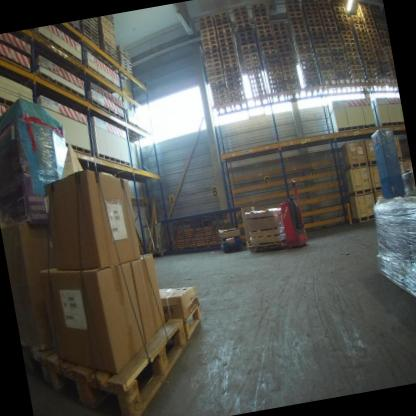pallet: (38, 307, 200, 416), (374, 249, 416, 317), (179, 286, 209, 345), (22, 336, 50, 390), (355, 3, 371, 17), (280, 63, 298, 74), (280, 58, 297, 69), (277, 49, 294, 60), (301, 70, 319, 80), (310, 36, 328, 46), (331, 3, 347, 14), (241, 46, 258, 56), (276, 45, 293, 55), (299, 61, 316, 71), (290, 26, 307, 36), (337, 75, 352, 86), (302, 75, 320, 84), (295, 47, 313, 56), (294, 43, 312, 52), (293, 39, 311, 48), (287, 17, 305, 26), (211, 87, 227, 97), (207, 69, 223, 79), (262, 51, 278, 61), (283, 73, 299, 83), (199, 25, 215, 35), (351, 75, 367, 85), (350, 71, 366, 81), (349, 66, 365, 76), (205, 60, 222, 69), (204, 56, 221, 65), (218, 39, 235, 48), (217, 34, 234, 43), (244, 61, 261, 70), (240, 42, 257, 51), (260, 43, 277, 52), (257, 30, 274, 39), (283, 77, 300, 86), (281, 69, 298, 78), (275, 41, 292, 50), (272, 28, 289, 37), (232, 8, 249, 17), (254, 18, 271, 27), (252, 9, 269, 18), (300, 66, 317, 75), (298, 56, 315, 65), (297, 52, 314, 61), (292, 35, 309, 44), (291, 31, 308, 40), (289, 22, 306, 31), (321, 77, 338, 86), (308, 28, 325, 37), (307, 23, 324, 32), (305, 16, 322, 25), (286, 9, 303, 18), (333, 62, 348, 72), (331, 53, 346, 63), (347, 58, 362, 68), (345, 49, 360, 59), (338, 23, 353, 33), (336, 19, 351, 29), (335, 15, 350, 25), (213, 97, 229, 106), (212, 92, 228, 101), (210, 83, 226, 92), (209, 79, 225, 88), (208, 74, 224, 83), (203, 51, 219, 60), (202, 42, 218, 51), (200, 34, 216, 43), (227, 84, 243, 93), (224, 65, 240, 74), (220, 47, 236, 56), (239, 33, 255, 42), (264, 57, 280, 66), (261, 47, 277, 56), (285, 82, 301, 91), (279, 54, 295, 63), (274, 37, 290, 46), (273, 32, 289, 41), (200, 30, 216, 39), (198, 21, 214, 30), (216, 25, 232, 34), (214, 18, 230, 27), (237, 25, 253, 34), (236, 21, 252, 30), (251, 5, 267, 14), (320, 72, 336, 81), (319, 68, 335, 77), (318, 64, 334, 73), (317, 59, 333, 68), (316, 54, 332, 63), (312, 41, 328, 50), (334, 68, 350, 77), (325, 32, 341, 41), (343, 40, 357, 50), (339, 28, 353, 38), (334, 11, 348, 21), (318, 3, 332, 13), (358, 45, 372, 55), (352, 21, 366, 31), (349, 13, 363, 23), (206, 66, 223, 74), (228, 89, 245, 97), (219, 43, 236, 51), (242, 51, 259, 59), (239, 38, 256, 46), (258, 35, 275, 43), (256, 27, 273, 35), (216, 30, 233, 38), (255, 23, 272, 31), (253, 14, 270, 22), (287, 14, 304, 22), (309, 33, 326, 41), (303, 9, 320, 17), (302, 5, 319, 13), (203, 47, 218, 56), (198, 17, 213, 26), (197, 12, 212, 21), (336, 72, 351, 81), (332, 58, 347, 67), (329, 45, 344, 54), (327, 37, 342, 46), (348, 63, 363, 72), (346, 54, 361, 63), (341, 36, 356, 45), (340, 32, 355, 41), (316, 0, 331, 9), (330, 0, 345, 9), (365, 72, 380, 81), (357, 8, 372, 17), (355, 33, 368, 43), (365, 22, 378, 32), (229, 94, 245, 102), (227, 79, 243, 87), (226, 75, 242, 83), (225, 71, 241, 79), (223, 61, 239, 69), (222, 57, 238, 65), (221, 53, 237, 61), (265, 62, 281, 70), (259, 39, 275, 47), (271, 24, 287, 32), (215, 22, 231, 30), (213, 10, 229, 18), (235, 17, 251, 25), (233, 13, 249, 21), (231, 5, 247, 13), (270, 20, 286, 28), (314, 50, 330, 58), (313, 46, 329, 54), (306, 20, 322, 28), (304, 12, 320, 20), (285, 2, 301, 10), (324, 24, 338, 33), (344, 44, 358, 53), (333, 8, 347, 17), (363, 63, 377, 72), (362, 59, 376, 68), (361, 54, 375, 63), (359, 50, 373, 59), (357, 41, 371, 50), (356, 37, 370, 46), (354, 29, 368, 38), (350, 17, 364, 26), (202, 39, 217, 47), (244, 56, 259, 64), (238, 29, 253, 37), (214, 15, 229, 23), (250, 1, 265, 9), (330, 50, 345, 58), (328, 41, 343, 49), (324, 28, 339, 36), (286, 6, 301, 14), (301, 1, 316, 9), (375, 59, 388, 68), (365, 26, 378, 35), (353, 25, 366, 34), (362, 14, 375, 23), (360, 11, 373, 20), (322, 20, 336, 28), (321, 16, 335, 24), (320, 12, 334, 20), (319, 8, 333, 16), (365, 69, 379, 77), (367, 30, 379, 39), (285, 0, 300, 7), (369, 38, 382, 46), (363, 19, 376, 27), (376, 21, 387, 30), (379, 72, 391, 80), (378, 67, 390, 75), (377, 63, 389, 71), (374, 55, 386, 63), (372, 47, 384, 55), (368, 35, 380, 43), (370, 43, 383, 50), (301, 0, 316, 6), (373, 51, 385, 58), (379, 32, 389, 40), (378, 28, 388, 36), (378, 25, 388, 33), (375, 18, 386, 25), (329, 0, 344, 5), (316, 0, 329, 5), (382, 45, 391, 52), (382, 41, 391, 48), (381, 37, 390, 44)
pallet_truck: (268, 171, 315, 248)
